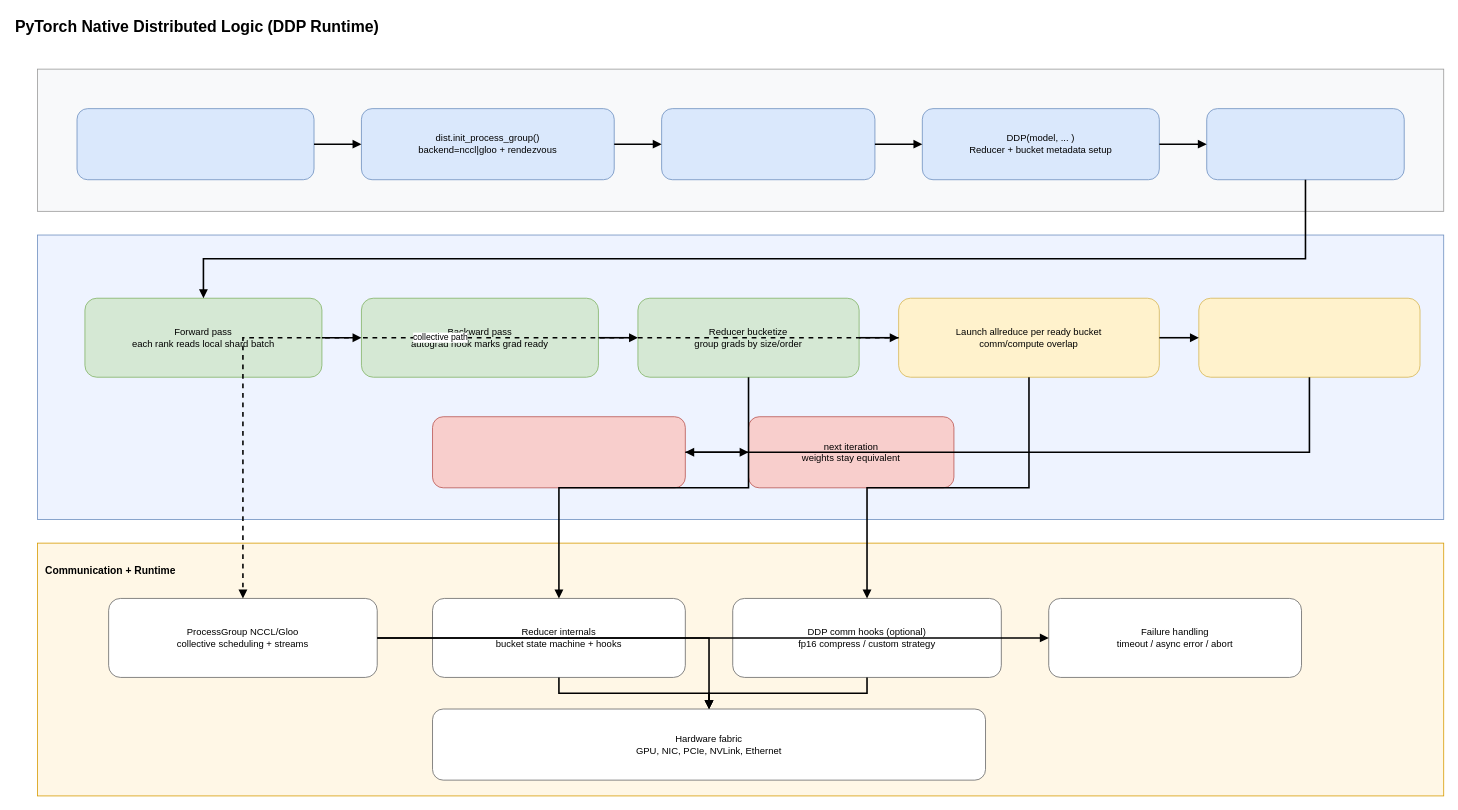
Some shapes in this 1458 by 810 pixel diagram are drawn without their labels. The shapes that lost their labels are listed below. From the top down, each one's box as (x1, y1, x2, y2) in pixels, then its label:
(76, 108, 314, 180): torchrun / env:// WORLD_SIZE, RANK, LOCAL_RANK
(37, 68, 1444, 211): Bootstrap Layer
(661, 108, 875, 180): Model to local device (cuda:LOCAL_RANK)
(1206, 108, 1404, 180): Optional state sync (broadcast params/buffers)
(1198, 297, 1420, 377): Grad finalized on every rank (sum/avg consistency)
(37, 234, 1444, 519): Per-Rank Training Loop
(432, 416, 685, 488): optimizer.step() same update rule on each rank
